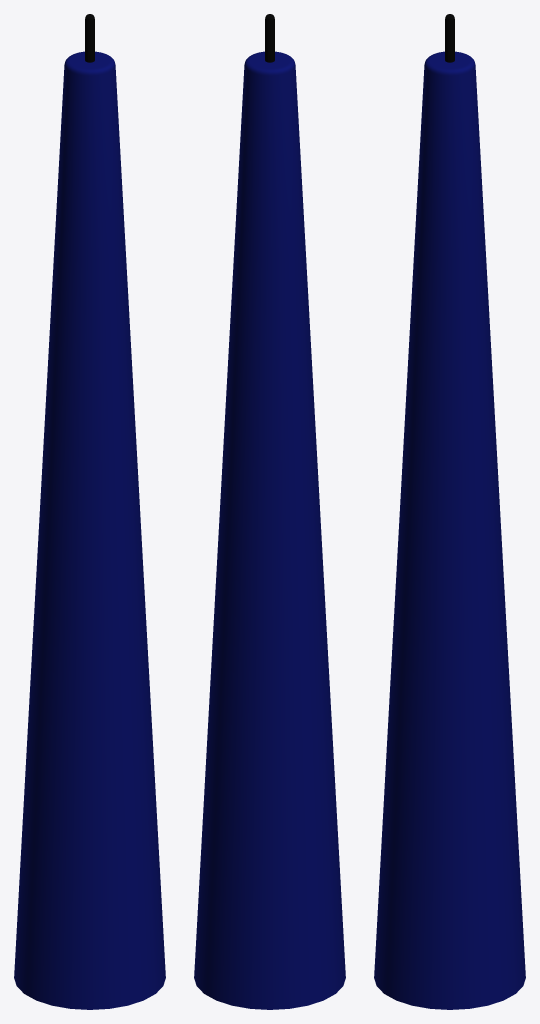
File: CANDLE - BLUE.fbx
3 views of the same model, side by side, from view 1: azimuth 30°, elevation 25°; view 2: azimuth 150°, elevation 25°; view 3: azimuth 270°, elevation 25° (orthographic).
Parts seen in each view (by area): view 1: Cone001, Object; view 2: Cone001, Object; view 3: Cone001, Object.
Part boxes in pixels (x1,y1,x2,y2): Cone001: (14, 51, 165, 1009); Object: (85, 14, 94, 62); Cone001: (194, 51, 345, 1009); Object: (265, 14, 274, 62); Cone001: (374, 51, 525, 1009); Object: (445, 14, 454, 62).
Size of the model in its own units: 3 by 21 by 3.
